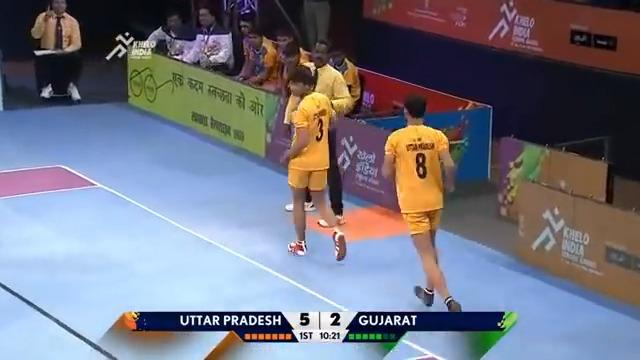Player: (381, 92, 462, 312), (281, 66, 347, 261)
referee: (29, 0, 83, 103)
